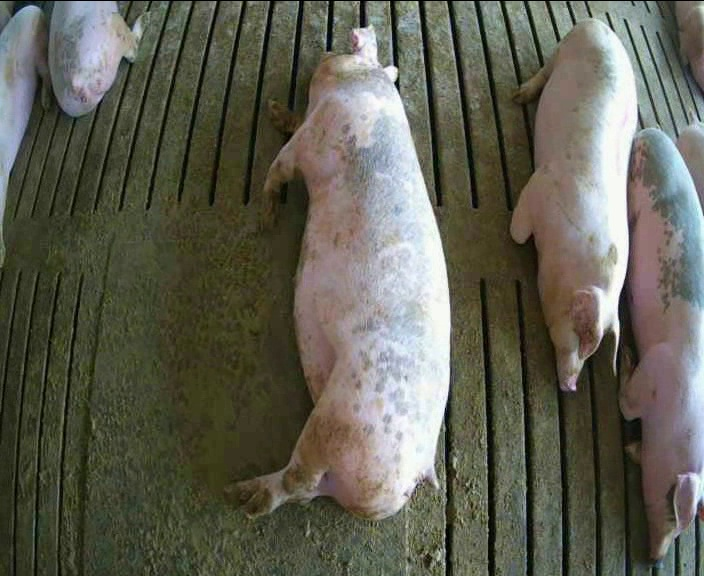pig: (227, 27, 449, 518), (511, 19, 636, 390), (619, 128, 703, 559), (0, 6, 51, 265), (48, 2, 149, 116)
